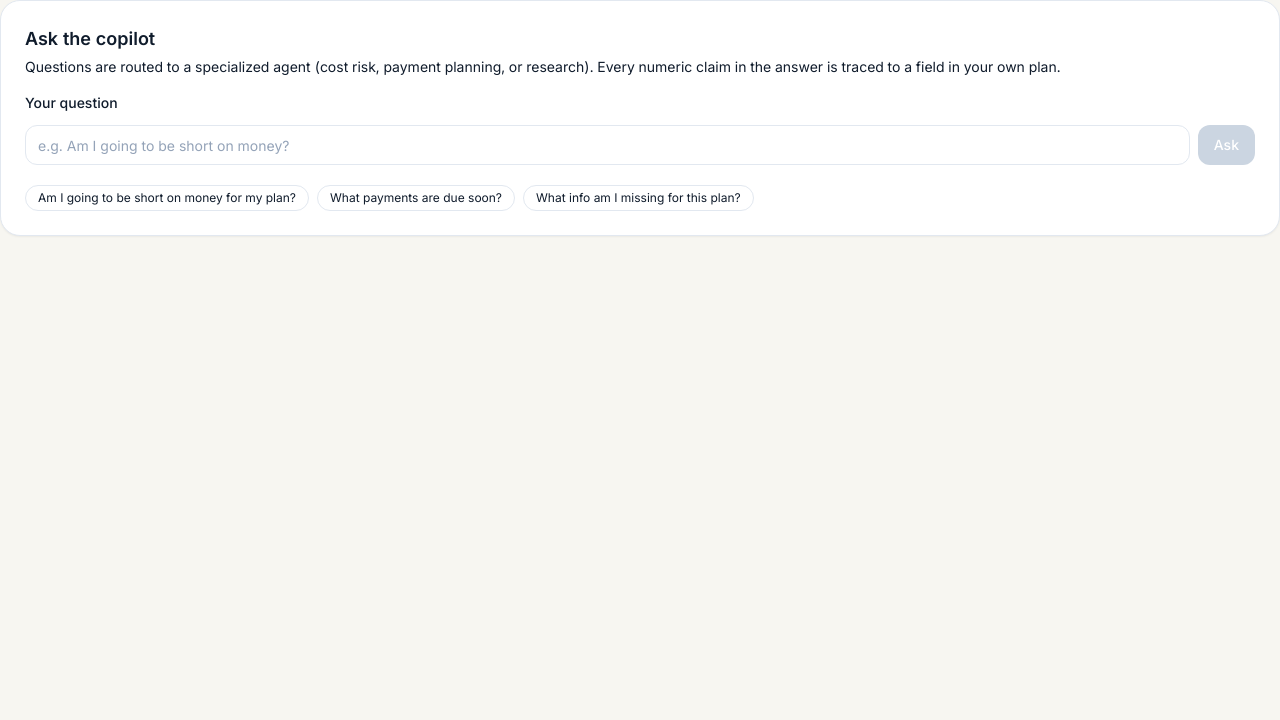
Test case: CopilotClient › submits the question and renders the response
In the field with placeholder "e.g. Am I going to be short on money?": (607, 145) [25,125,1190,165], type "Am I going to be short on money?"
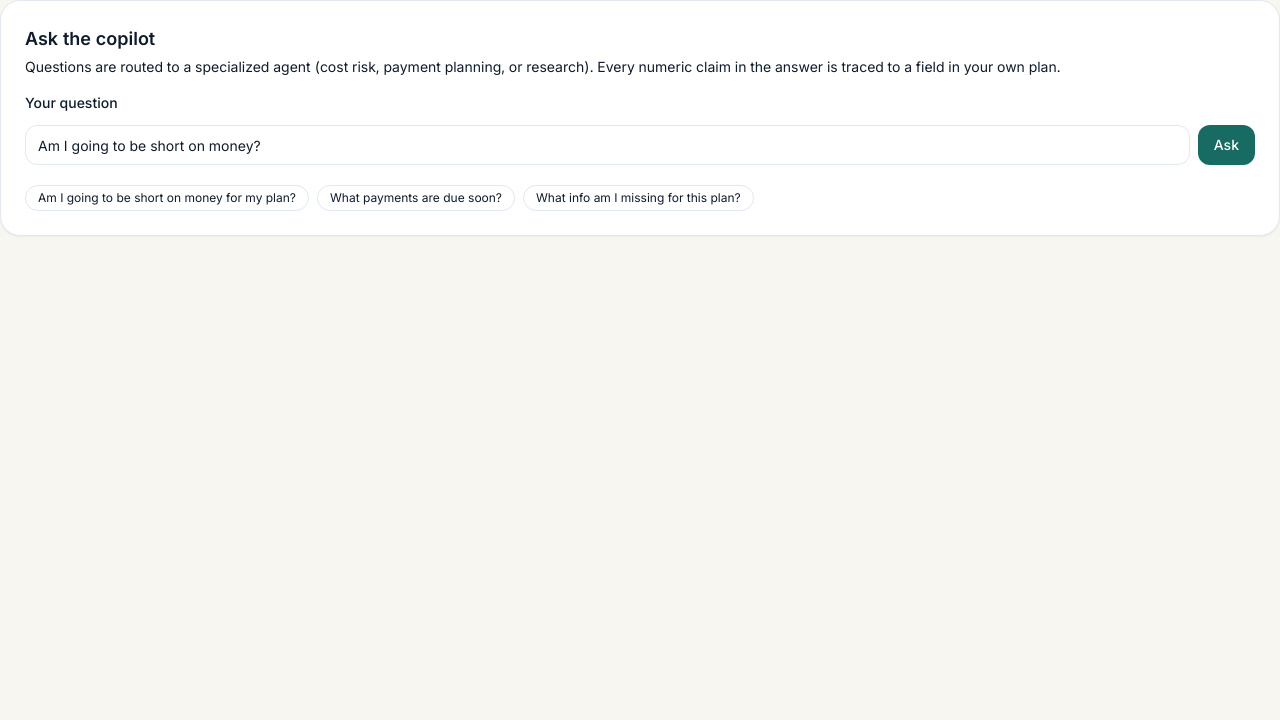
Click the button "Ask": click(1226, 145) [1198,125,1255,165]
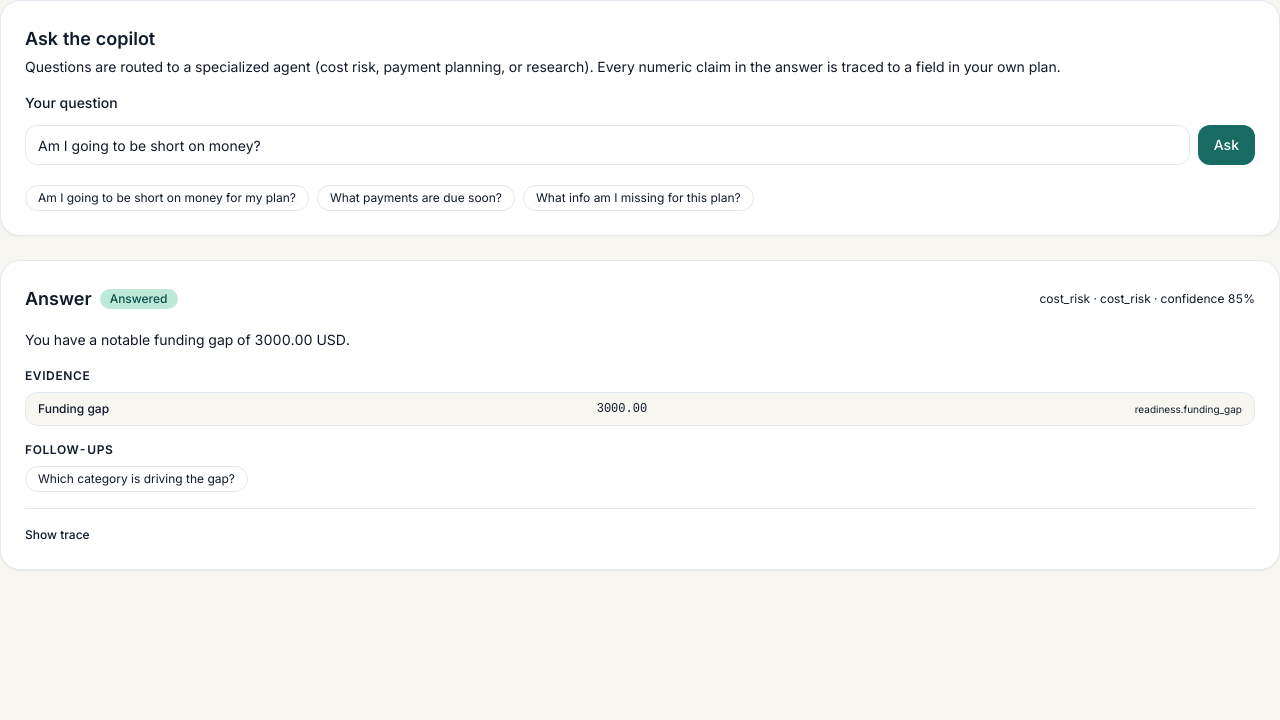
expect the text "You have a notable funding gap of 3000.00 USD." is shown: met, box [25,331,350,348]
expect the text "Answered" is shown: met, box [100,289,178,309]
